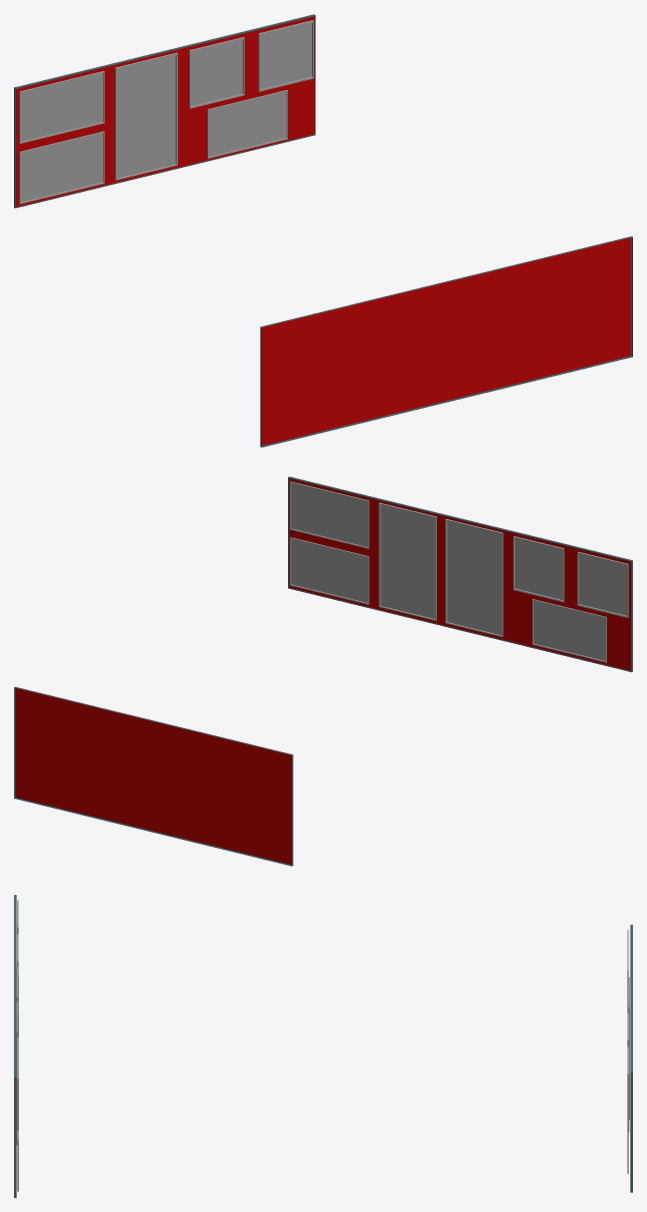
The model's file is Portrait2.fbx.
The picture shows the model from 3 angles, top to bottom: view 1: azimuth 30°, elevation 25°; view 2: azimuth 150°, elevation 25°; view 3: azimuth 270°, elevation 25°; orthographic projection. The views are drawn at different scales.
Parts seen in each view (by area): view 1: Portrait; view 2: Portrait; view 3: Portrait.
Part boxes in pixels (<box>): Portrait: <box>14,14,632,447</box>; Portrait: <box>14,476,632,866</box>; Portrait: <box>14,895,632,1197</box>.
Bounding box in the file's own units: 10.47 × 3.23 × 15.04.
